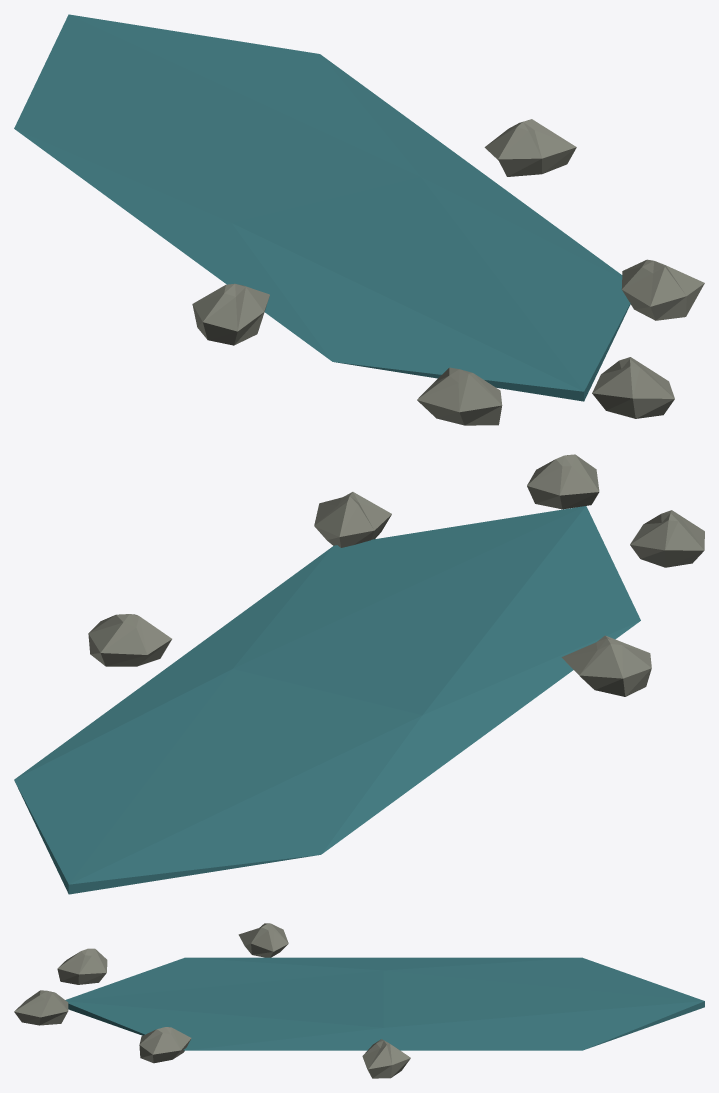
File: river_segment-far.glb
3 renders of one model, top to bottom at view 1: azimuth 30°, elevation 25°; view 2: azimuth 150°, elevation 25°; view 3: azimuth 270°, elevation 25°, orthographic. The views are drawn at different scales.
Parts seen in each view (by area): view 1: world-scenery/river_segment-far; view 2: world-scenery/river_segment-far; view 3: world-scenery/river_segment-far.
Part boxes in pixels (box(x1,y1,x2,y2)): world-scenery/river_segment-far: box(14, 14, 704, 425); world-scenery/river_segment-far: box(14, 454, 704, 894); world-scenery/river_segment-far: box(14, 923, 704, 1078).
Bounding box in the file's own units: 3.08 × 0.2935 × 6.4.
